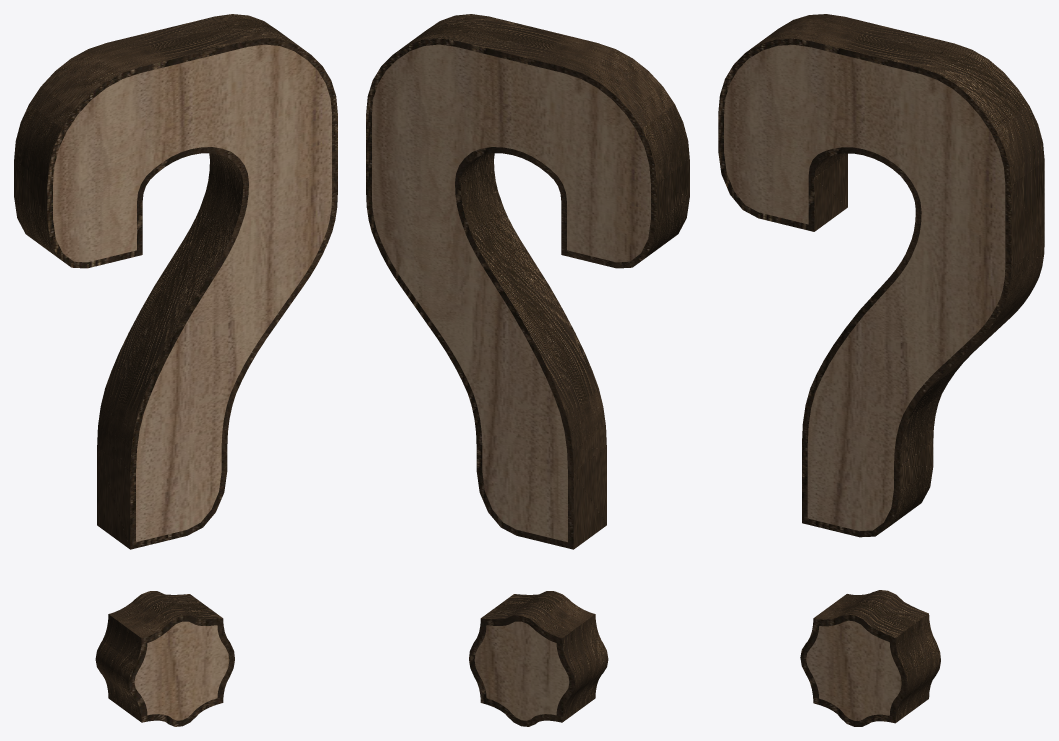
Rendered from Question.FBX.
3 views of the same model, side by side, from view 1: azimuth 30°, elevation 25°; view 2: azimuth 150°, elevation 25°; view 3: azimuth 330°, elevation 25° (orthographic).
Visible parts, largest first — view 1: Question, Question_outline; view 2: Question, Question_outline; view 3: Question, Question_outline.
Boxes of the visible parts, x1,y1,x2,y2 form: Question: (53,44,331,720); Question_outline: (14,14,337,726); Question: (372,44,650,720); Question_outline: (366,14,689,726); Question: (724,45,1005,720); Question_outline: (718,14,1044,726).
Size of the model in its own units: 50.42 by 111 by 10.
Materials: 2 (2 with a texture image).
